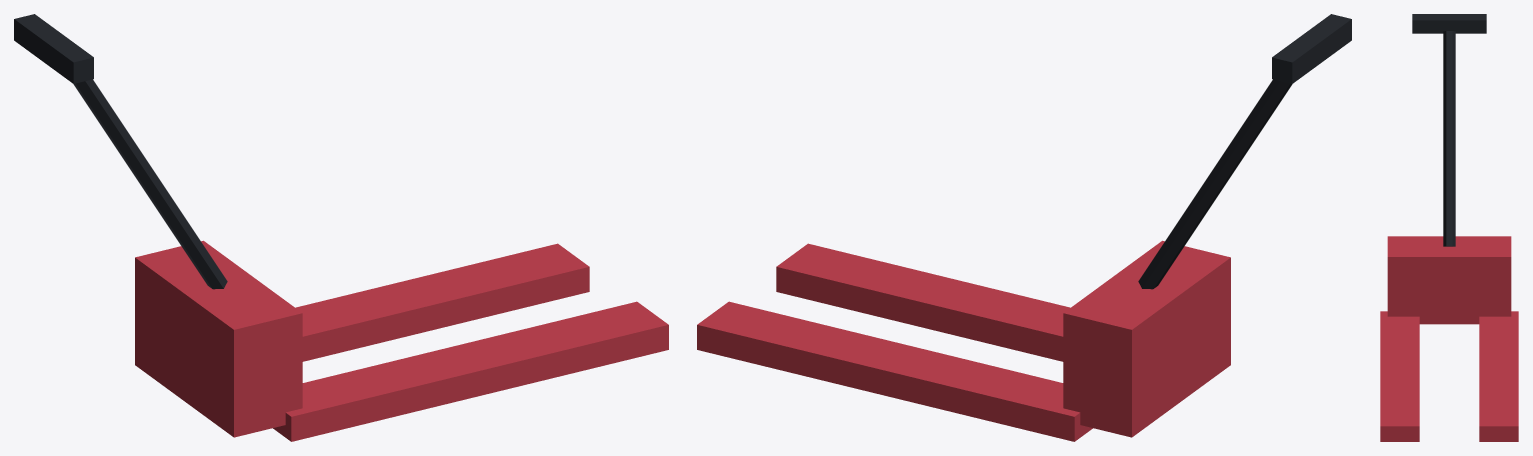
Rendered from pallet_jack.glb.
3 views of the same model, side by side, from view 1: azimuth 30°, elevation 25°; view 2: azimuth 150°, elevation 25°; view 3: azimuth 270°, elevation 25° (orthographic). The views are drawn at different scales.
Visible parts, largest first — view 1: pallet_jack; view 2: pallet_jack; view 3: pallet_jack.
Part boxes in pixels (left/top/right/bottom): pallet_jack: left=14, top=14, right=668, bottom=441; pallet_jack: left=697, top=14, right=1351, bottom=441; pallet_jack: left=1380, top=14, right=1518, bottom=441.
Bounding box in the file's own units: 1.66 × 1.13 × 0.56.
